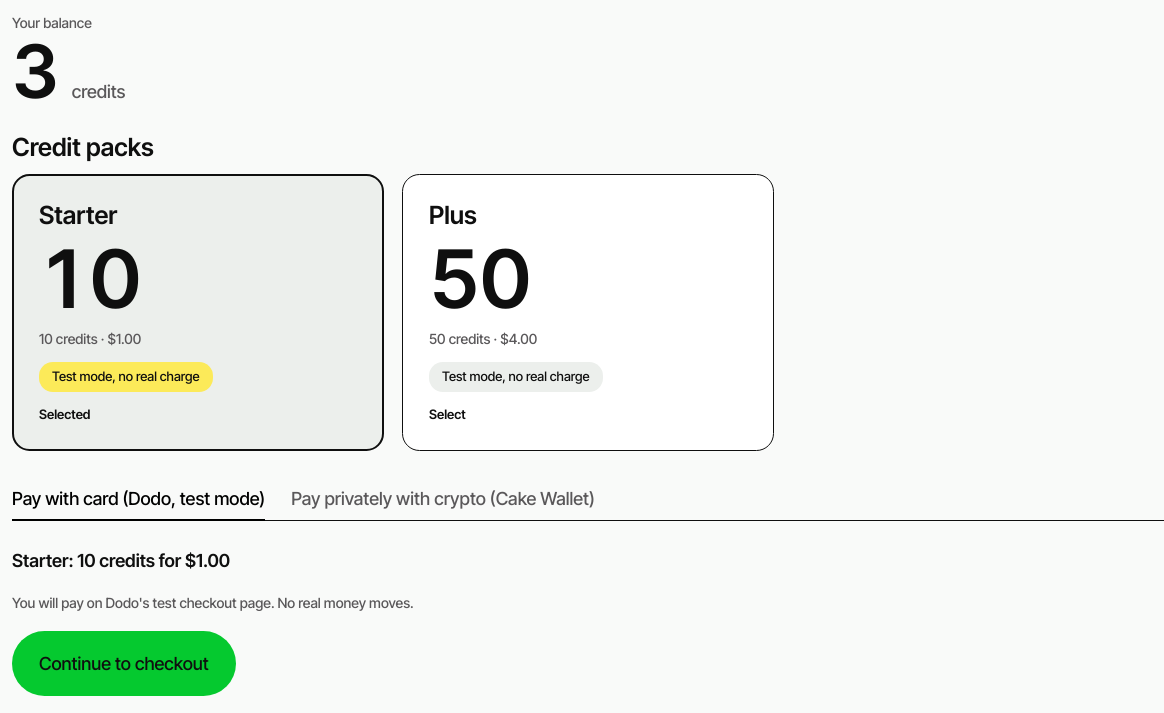
Test: CreditsContent › explains a payments outage instead of failing silently
Click the button "Continue to checkout" at (124, 664), box [12,631,236,696]
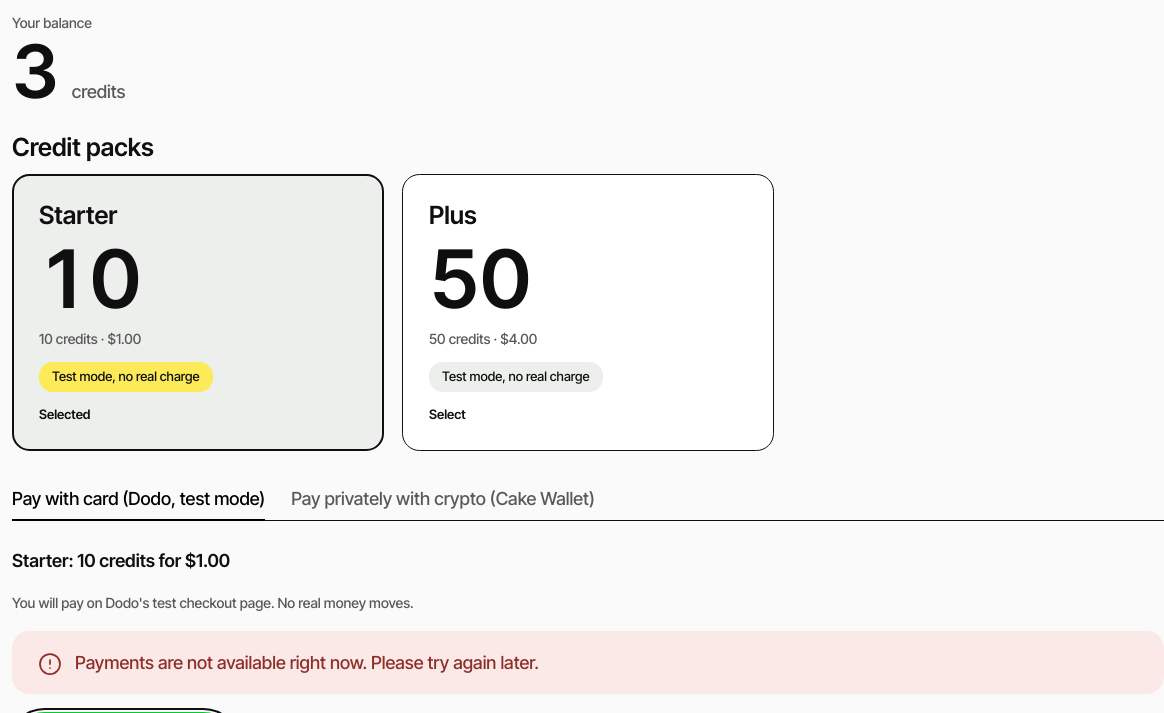
Check: the message shows "Payments are not available right now", box [75,652,539,673]
